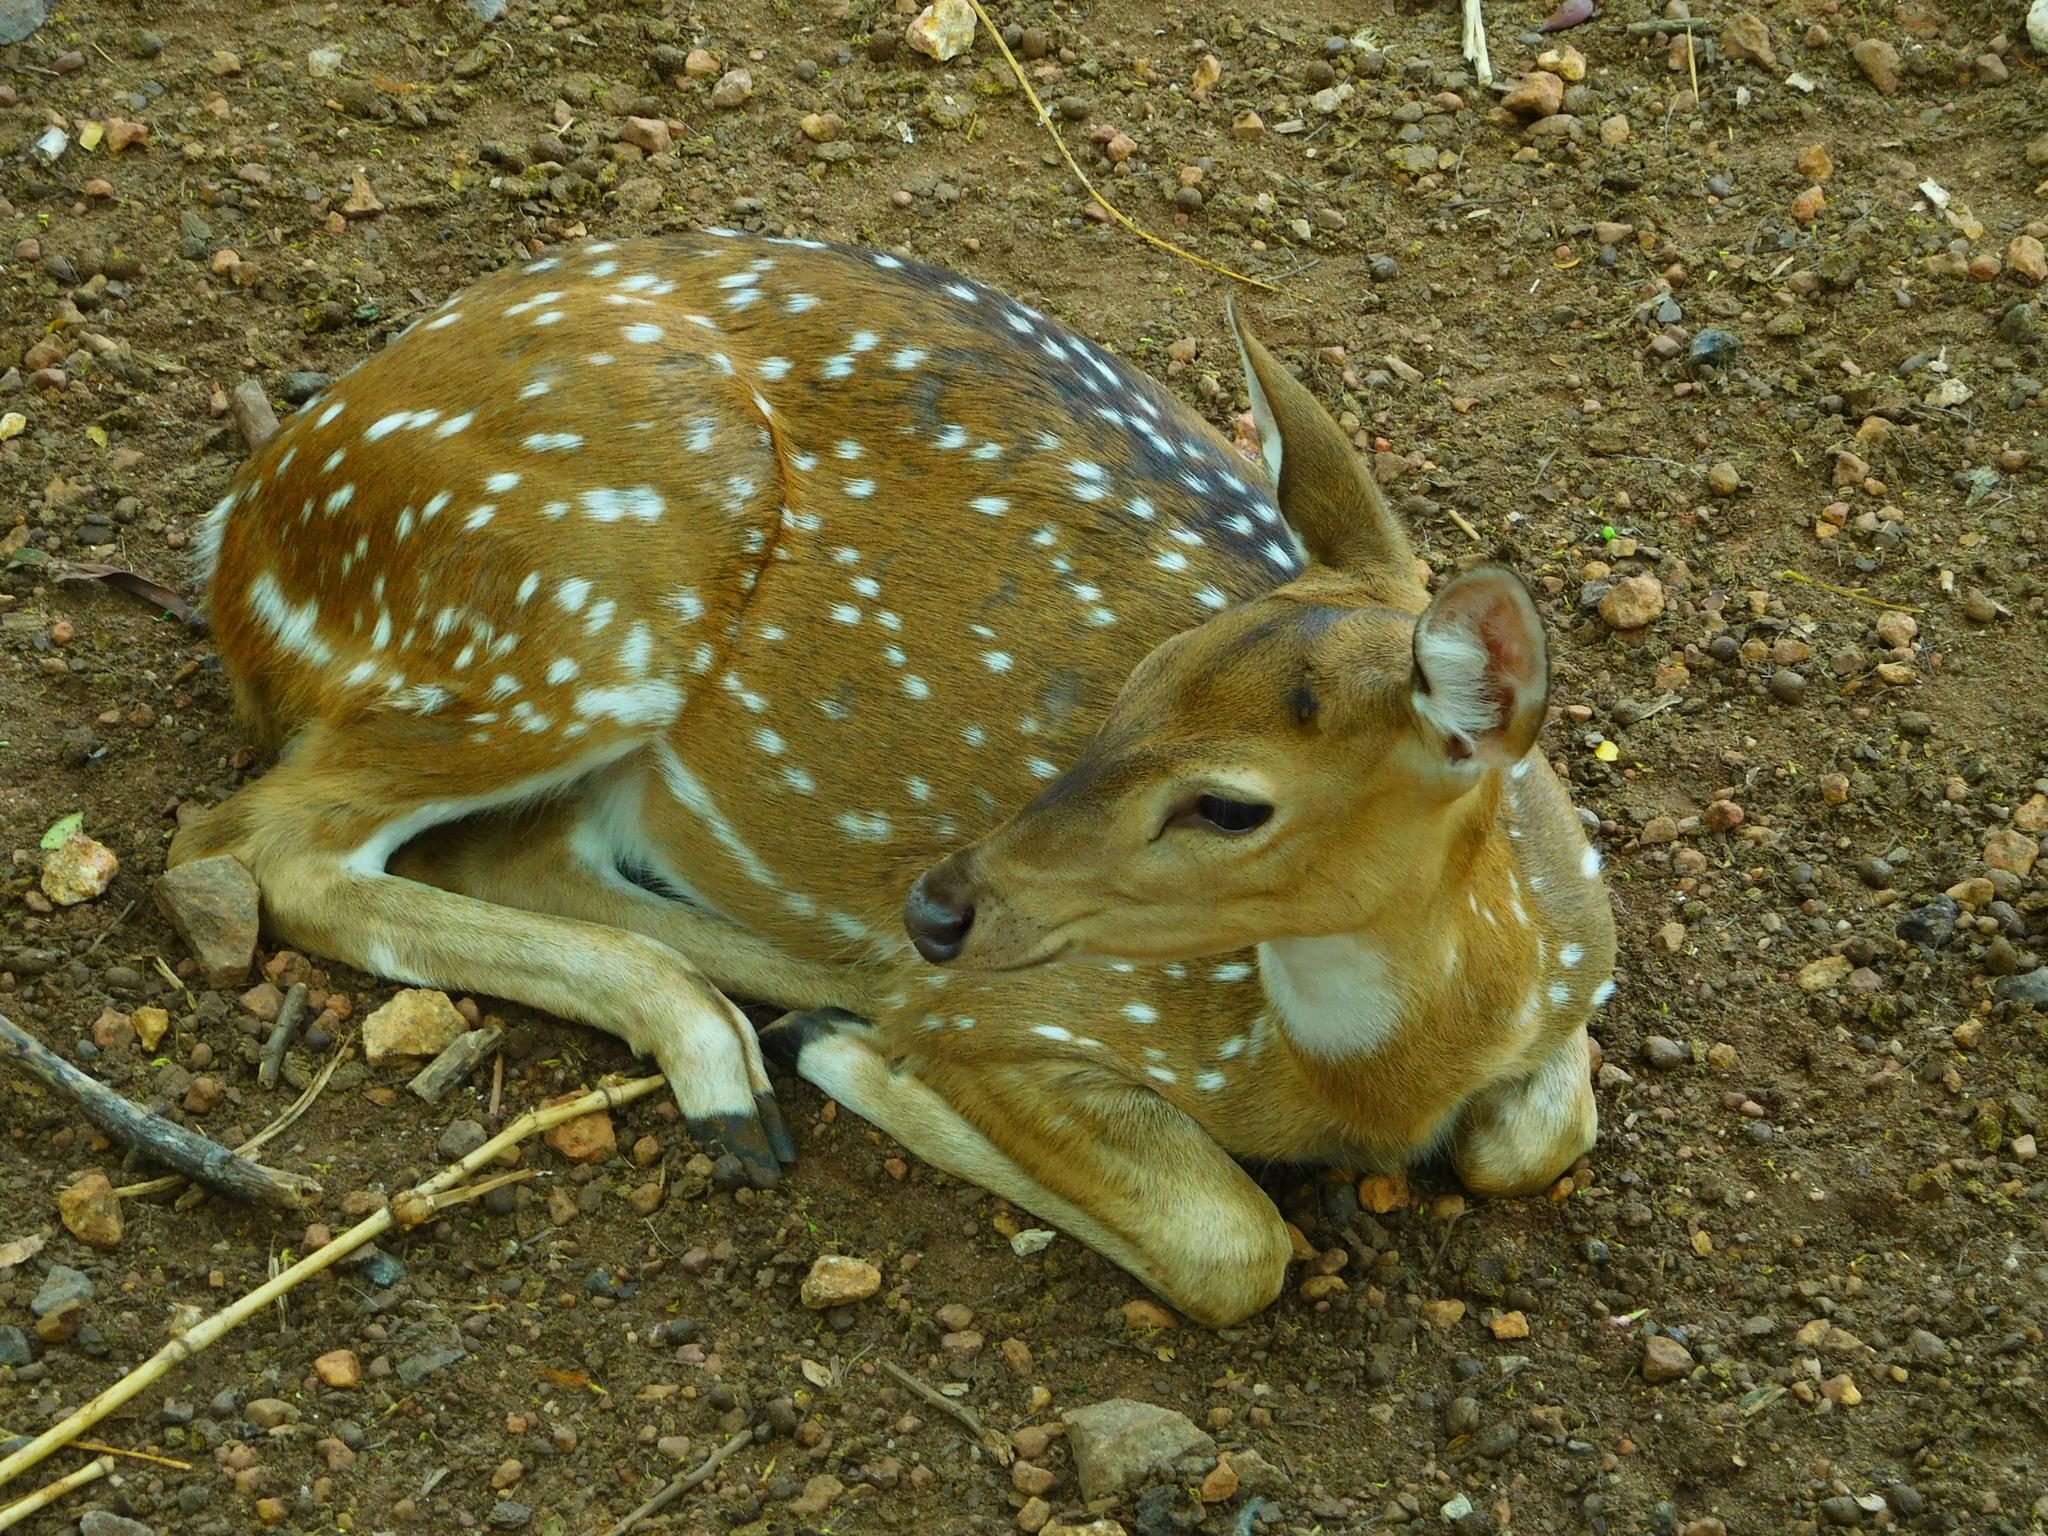Deer: (171, 231, 1613, 1323)
